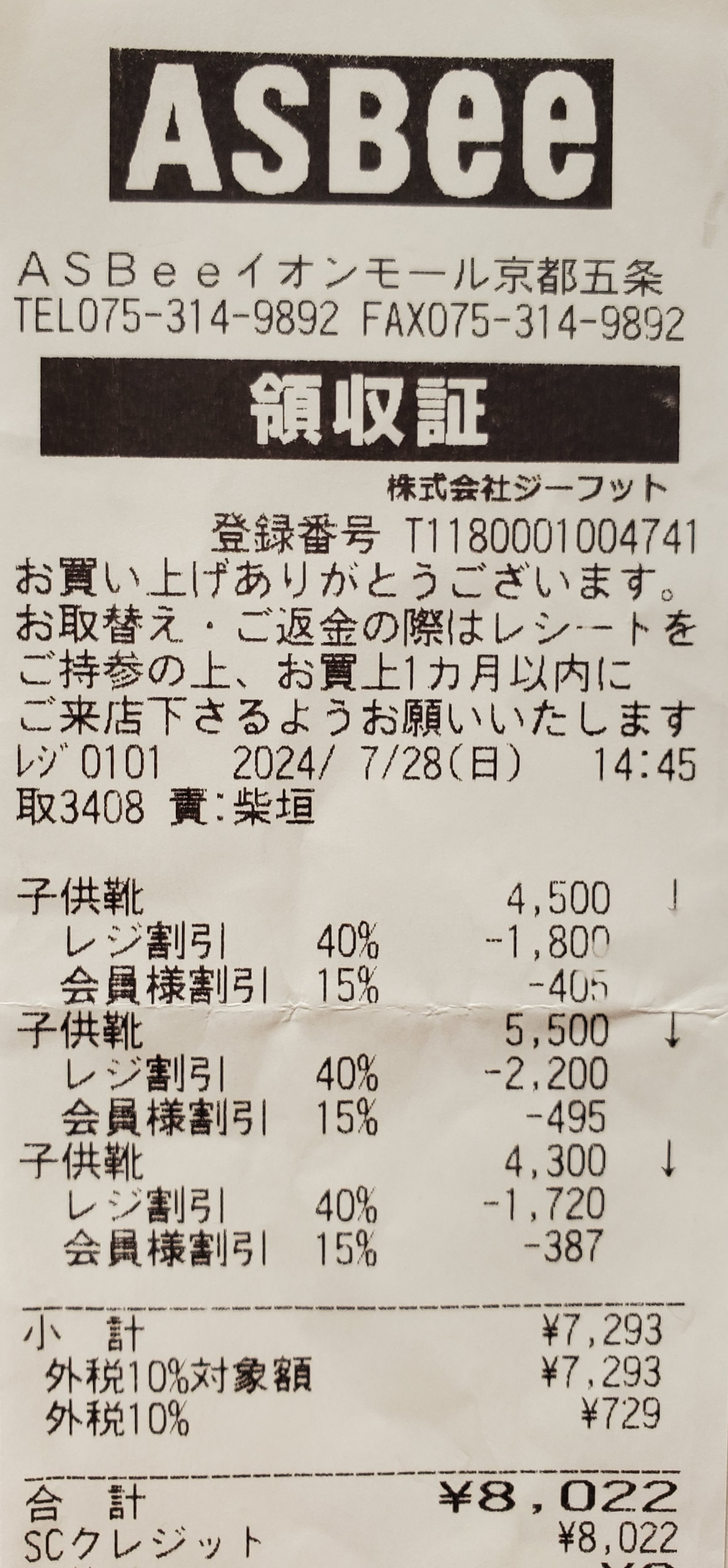Date: (227, 741, 450, 792)
Shopname: (105, 45, 622, 203)
Telnum: (76, 288, 347, 346)
Totalpay: (25, 1479, 703, 1525)
